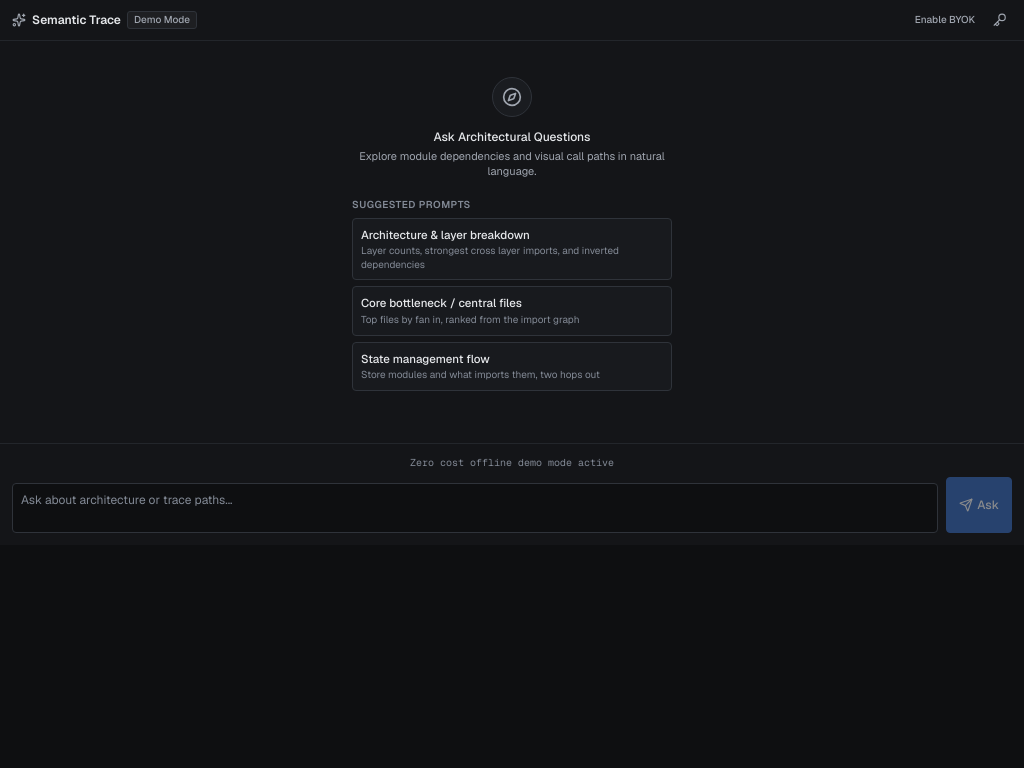
Test: TracePanel › submits a query when a suggested prompt pill is clicked
Click the button "Core bottleneck / central files".
click(512, 311)  # box [352,286,672,336]
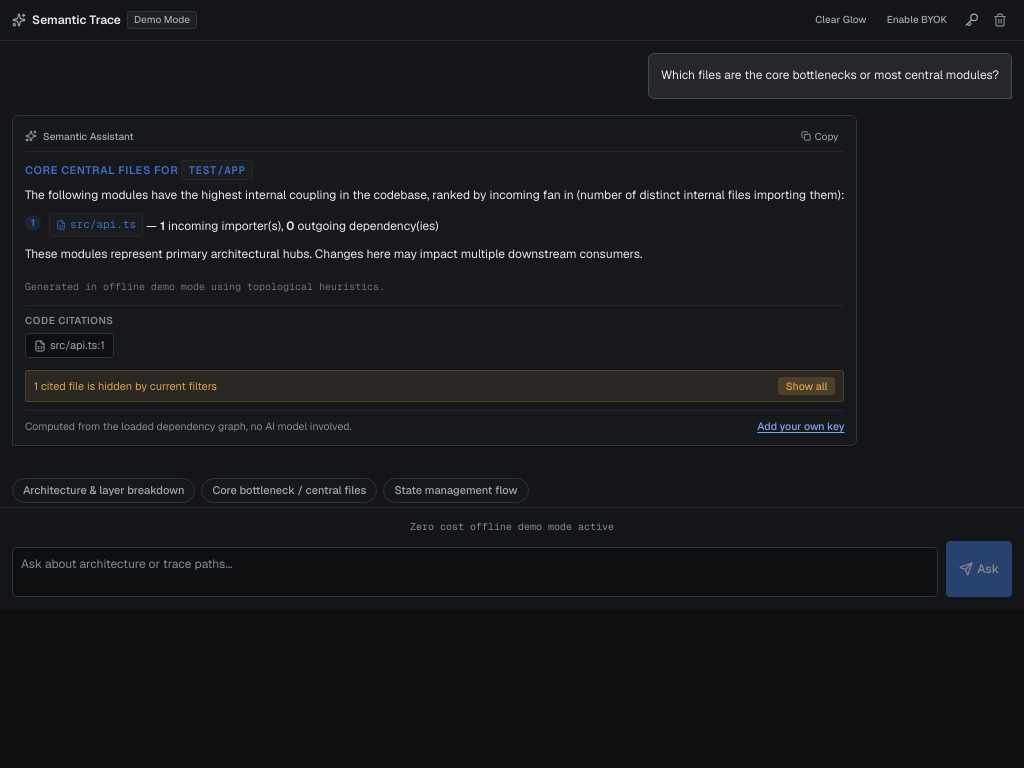
Result: the heading "Core Central Files for test/app" is shown at [25,160,253,180]
Result: the text "Which files are the core bottlenecks or most central modules?" is shown at [661,66,999,86]
Result: the text "src/api.ts" is shown at [70,216,136,234]
